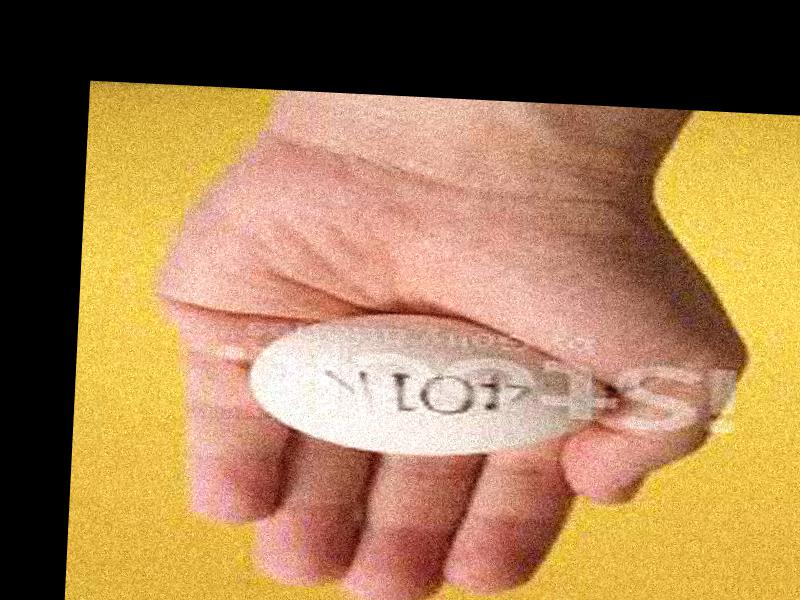Eggs: (246, 308, 611, 463)
